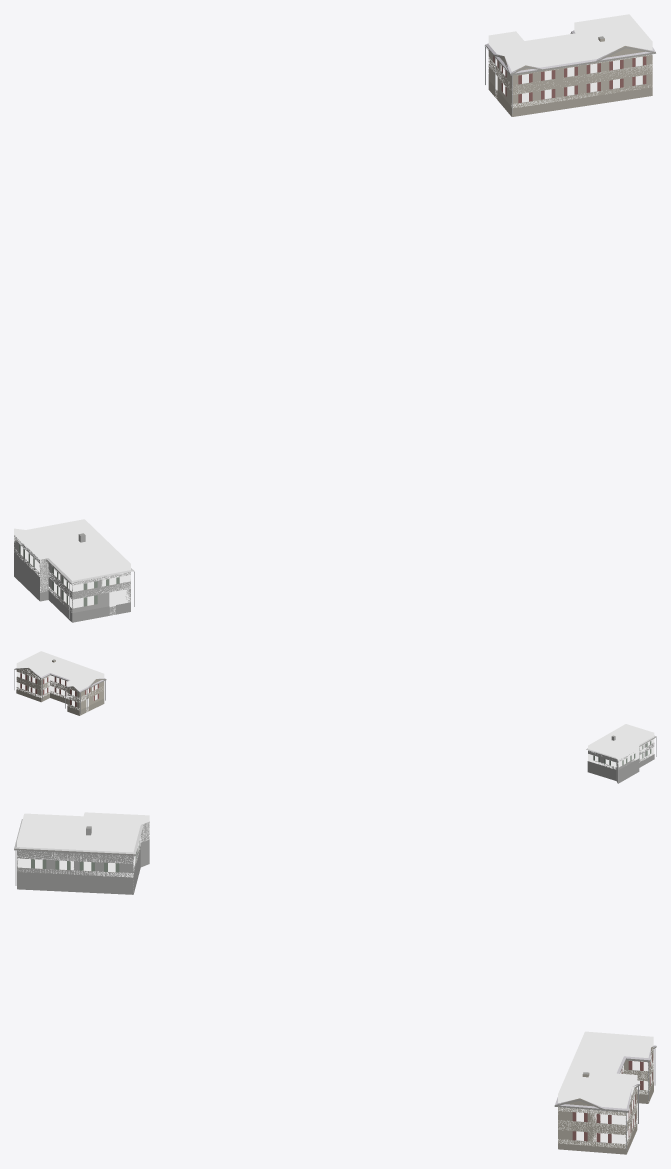
3 renders of one model, top to bottom at view 1: azimuth 30°, elevation 25°; view 2: azimuth 150°, elevation 25°; view 3: azimuth 270°, elevation 25°, orthographic. The views are drawn at different scales.
Parts seen in each view (by area): view 1: col, bld; view 2: col, bld; view 3: col, bld.
Part boxes in pixels (left/top/right/bottom): col: left=14, top=14, right=652, bottom=614; bld: left=14, top=30, right=655, bottom=622; col: left=16, top=651, right=654, bottom=769; bld: left=14, top=659, right=656, bottom=783; col: left=17, top=812, right=653, bottom=1148; bld: left=14, top=819, right=656, bottom=1154.
Size of the model in its own units: 132 by 27.03 by 84.06.
